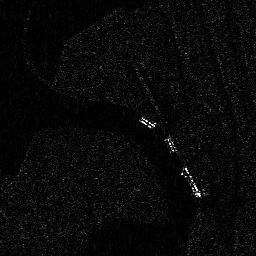ship: (179, 166, 200, 198), (164, 136, 179, 153), (137, 115, 156, 128)
